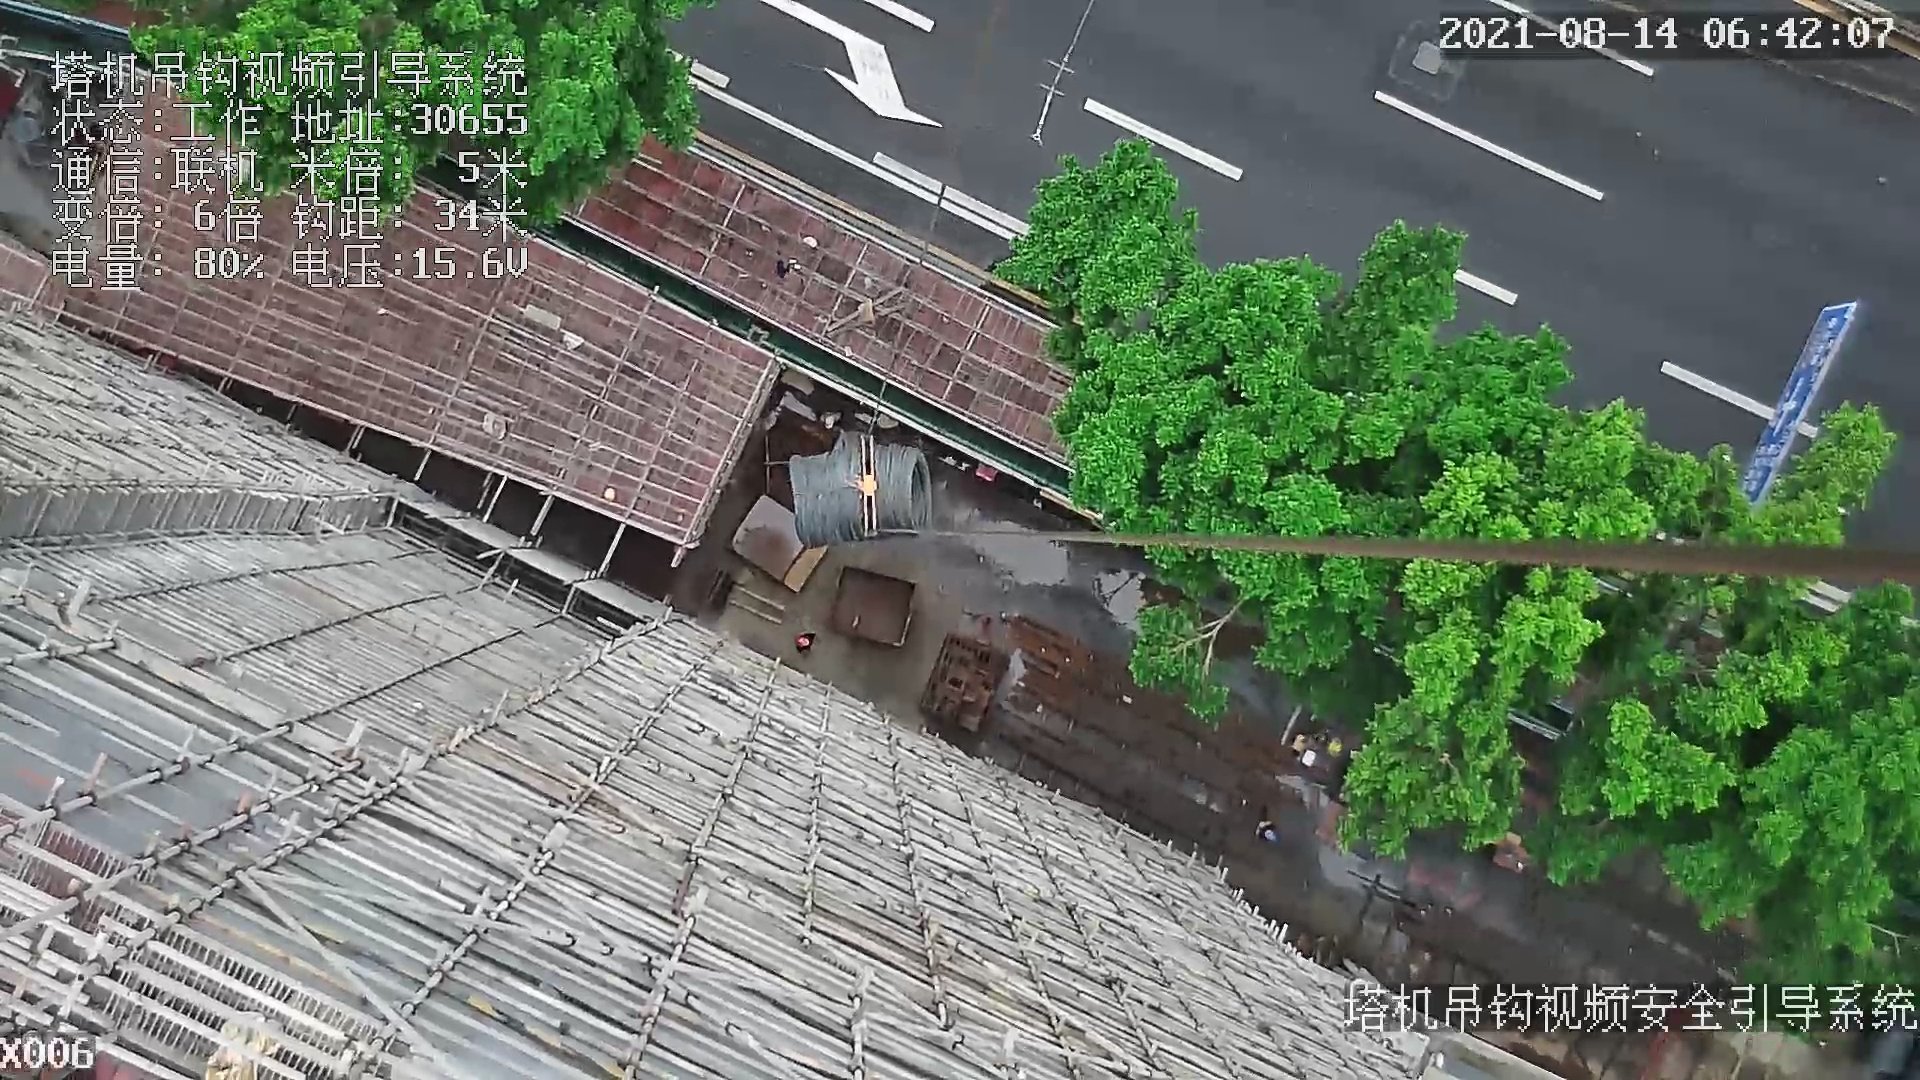hook: (842, 428, 878, 539)
person: (1249, 809, 1280, 846), (795, 630, 822, 658)
